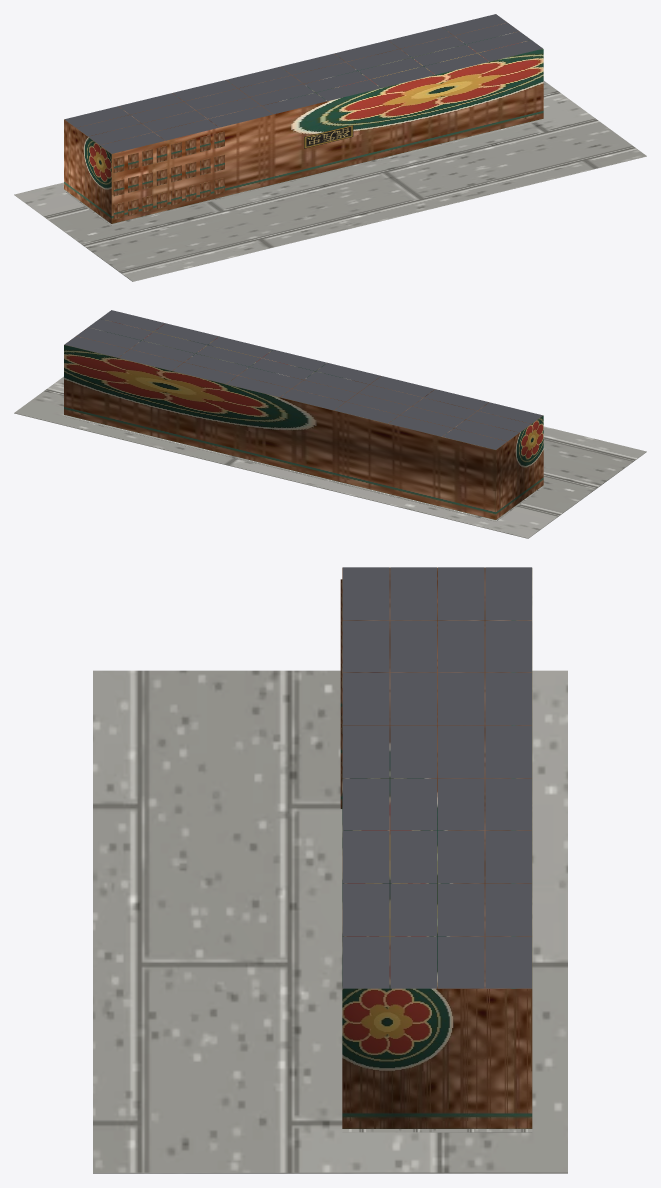
The picture shows the model from 3 angles, top to bottom: view 1: azimuth 30°, elevation 25°; view 2: azimuth 150°, elevation 25°; view 3: azimuth 270°, elevation 25°; orthographic projection. The views are drawn at different scales.
Visible parts, largest first — view 1: 11140_02_04624_032_01_L2__base, 11140_02_04624_032_02_L2__body, 11140_02_04624_032_03_L2__roof, 11140_02_04624_032_05_L2__openings, 11140_02_04624_032_04_L2__sign; view 2: 11140_02_04624_032_02_L2__body, 11140_02_04624_032_03_L2__roof, 11140_02_04624_032_01_L2__base; view 3: 11140_02_04624_032_01_L2__base, 11140_02_04624_032_03_L2__roof, 11140_02_04624_032_02_L2__body.
Part boxes in pixels (box(x1,y1,x2,y2)): 11140_02_04624_032_01_L2__base: box(14, 81, 646, 281); 11140_02_04624_032_02_L2__body: box(64, 23, 543, 223); 11140_02_04624_032_03_L2__roof: box(65, 14, 542, 153); 11140_02_04624_032_05_L2__openings: box(113, 131, 224, 219); 11140_02_04624_032_04_L2__sign: box(304, 125, 353, 148); 11140_02_04624_032_02_L2__body: box(64, 318, 543, 519); 11140_02_04624_032_03_L2__roof: box(64, 310, 542, 449); 11140_02_04624_032_01_L2__base: box(14, 376, 646, 538); 11140_02_04624_032_01_L2__base: box(93, 670, 567, 1173); 11140_02_04624_032_03_L2__roof: box(342, 567, 531, 988); 11140_02_04624_032_02_L2__body: box(342, 567, 532, 1128).
Bounding box in the file's own units: 100 × 13.42 × 40.
Materials: 5 (5 with a texture image).
